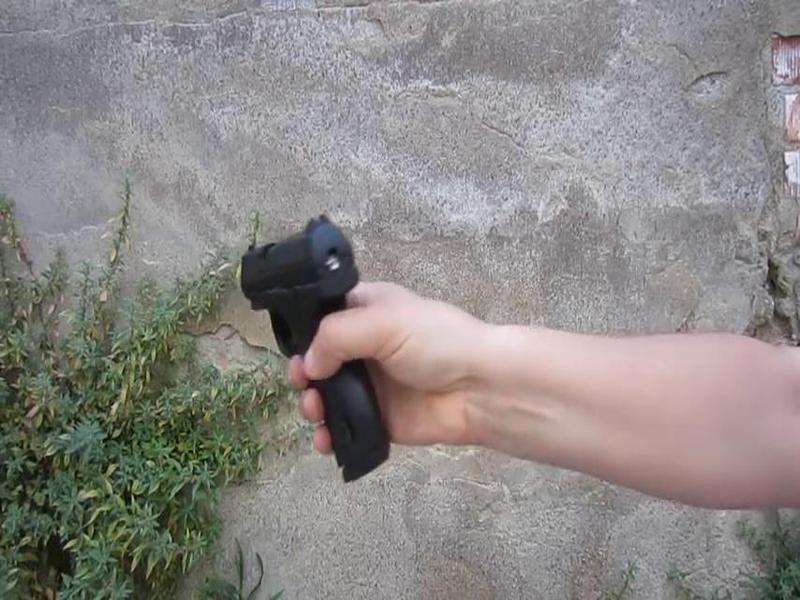Pistola: (231, 198, 390, 507)
